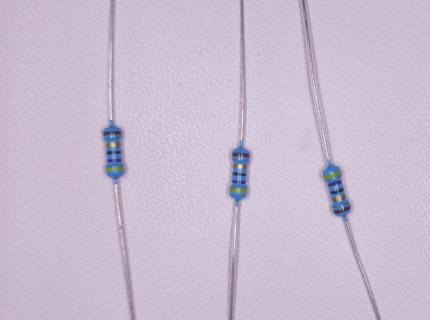Black band: (330, 188, 345, 195), (233, 172, 247, 177), (107, 151, 122, 155)
Brown band: (333, 205, 351, 215), (232, 152, 250, 158), (103, 131, 122, 136)
Gold band: (332, 195, 347, 203), (106, 142, 121, 148), (233, 164, 247, 169)
Violet band: (327, 179, 342, 187), (232, 179, 246, 184), (106, 159, 122, 163)
Yellow band: (323, 171, 342, 181), (229, 188, 247, 194), (105, 167, 124, 172)
